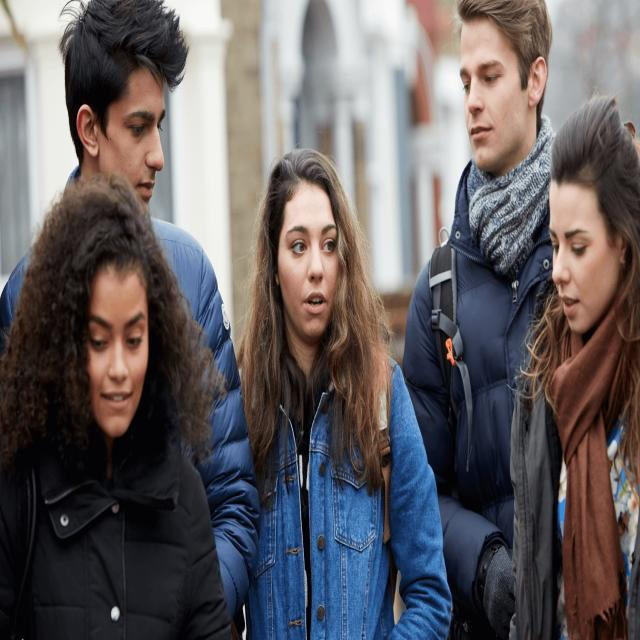Jacket: (399, 153, 582, 640), (218, 345, 452, 640), (1, 432, 219, 640), (506, 302, 640, 640)
